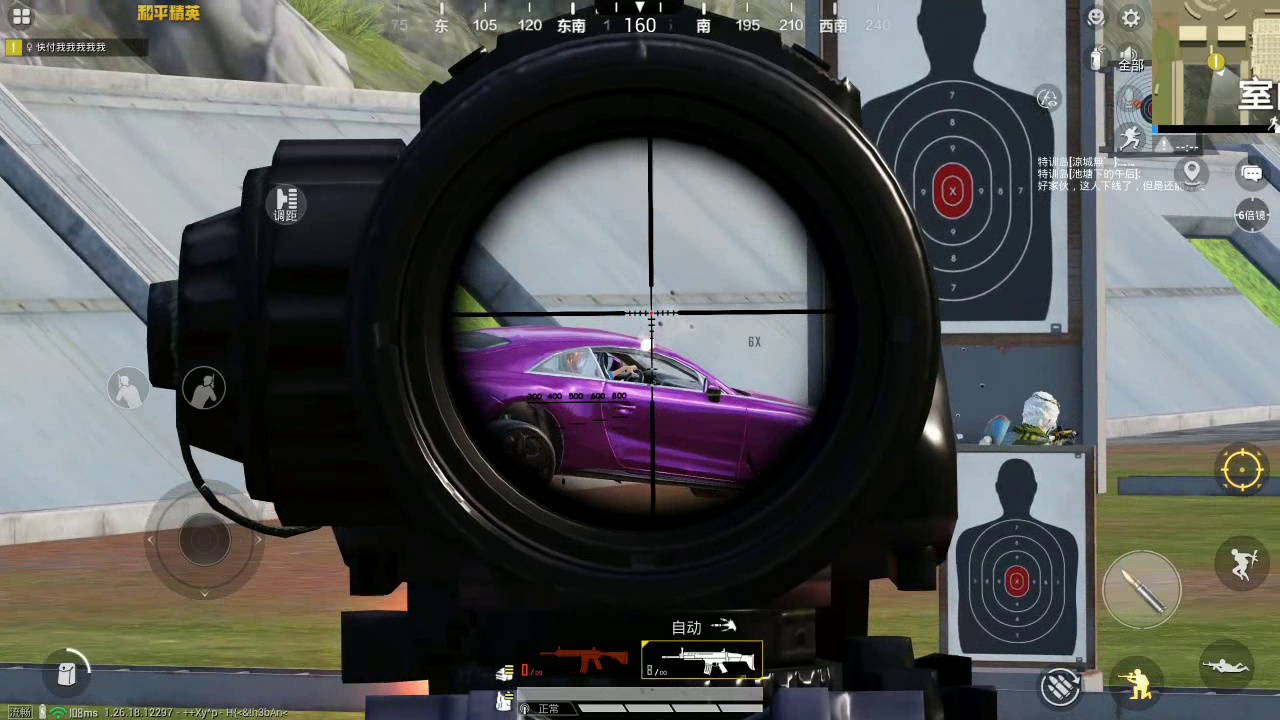enemy: (980, 387, 1077, 447)
